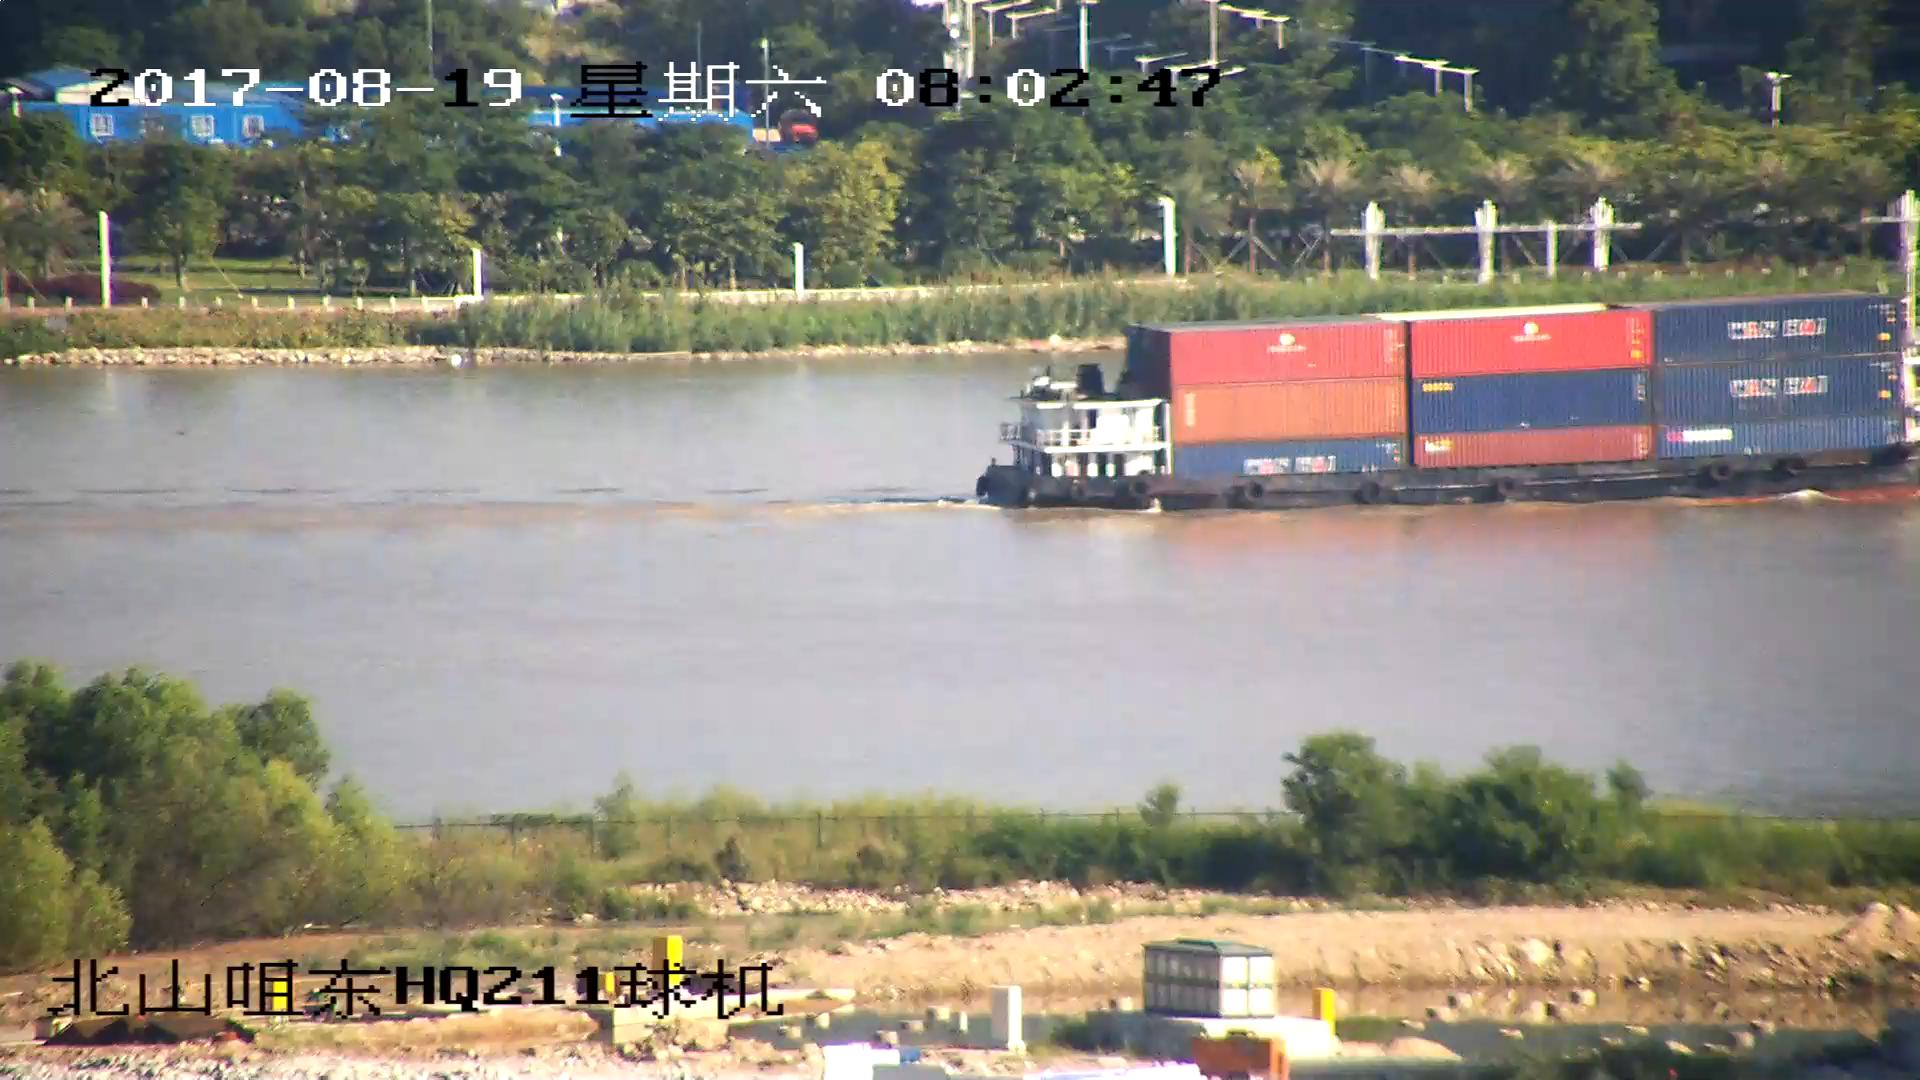container ship: (974, 294, 1920, 507)
